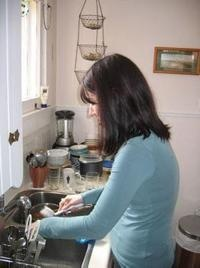person without safety: (78, 53, 179, 243)
